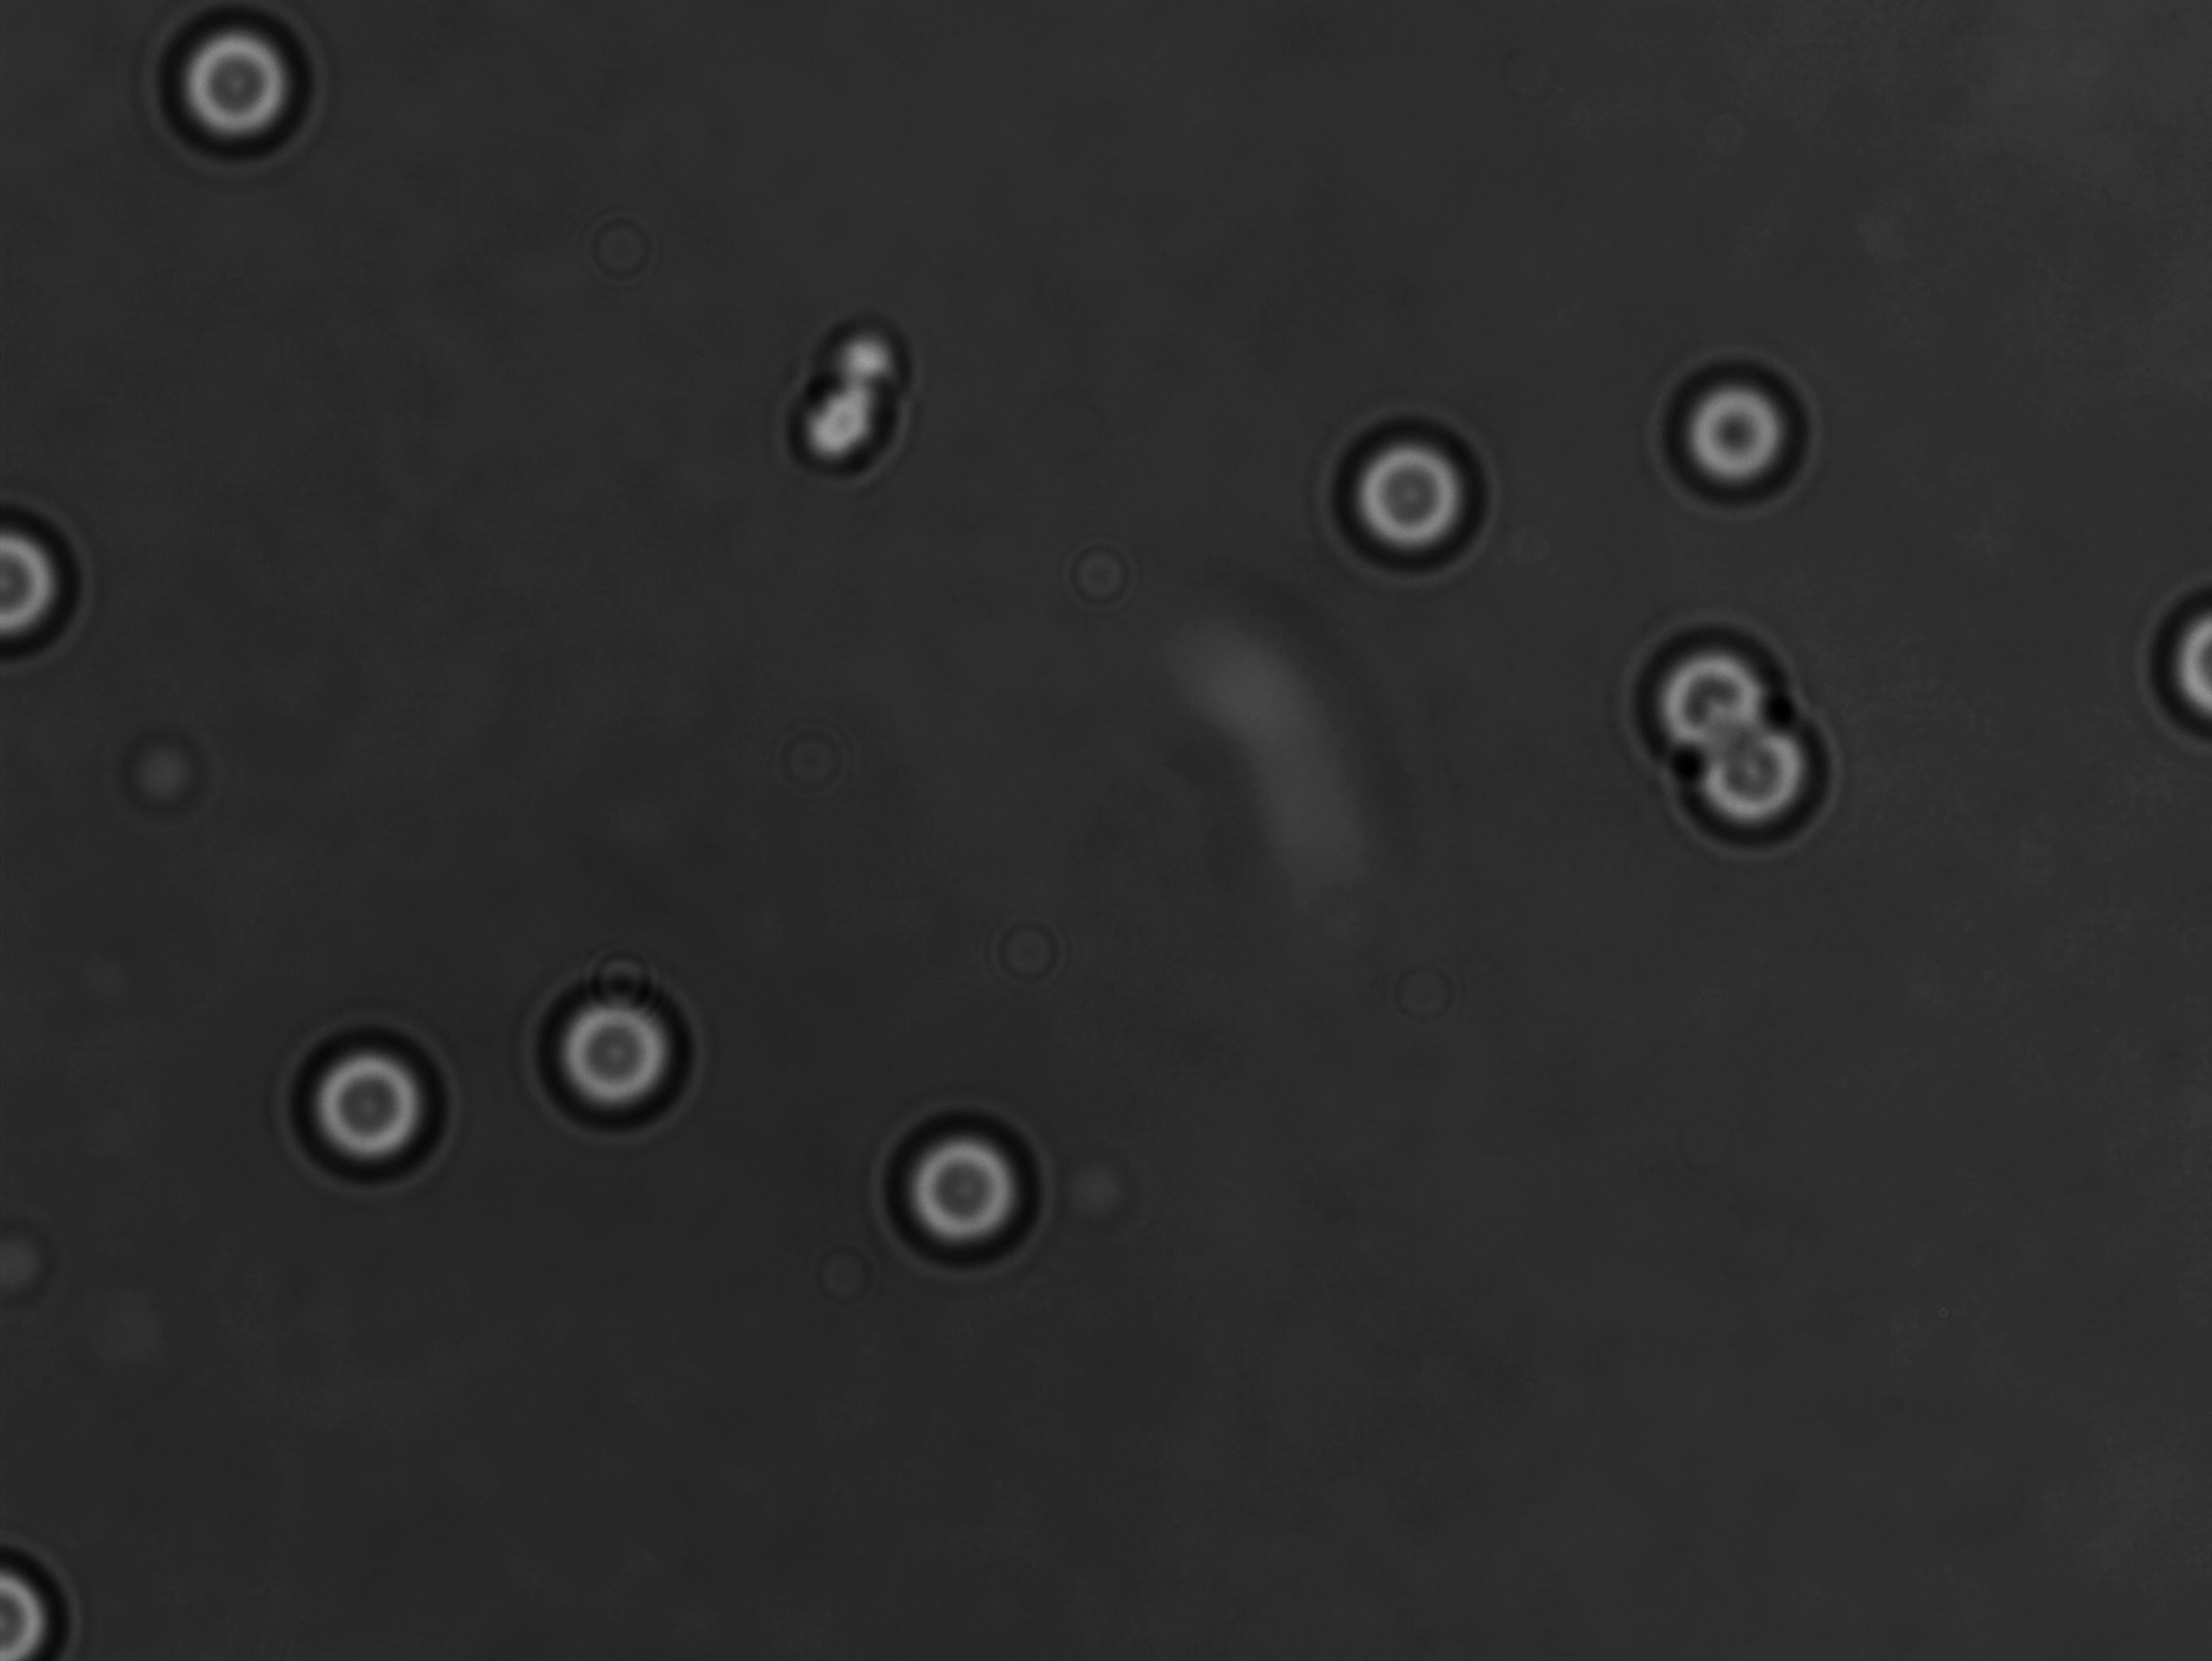depth:20: (1312, 408, 1500, 579), (536, 961, 717, 1134), (293, 1022, 462, 1195), (1657, 351, 1825, 518), (884, 1106, 1050, 1274), (160, 10, 309, 155)
